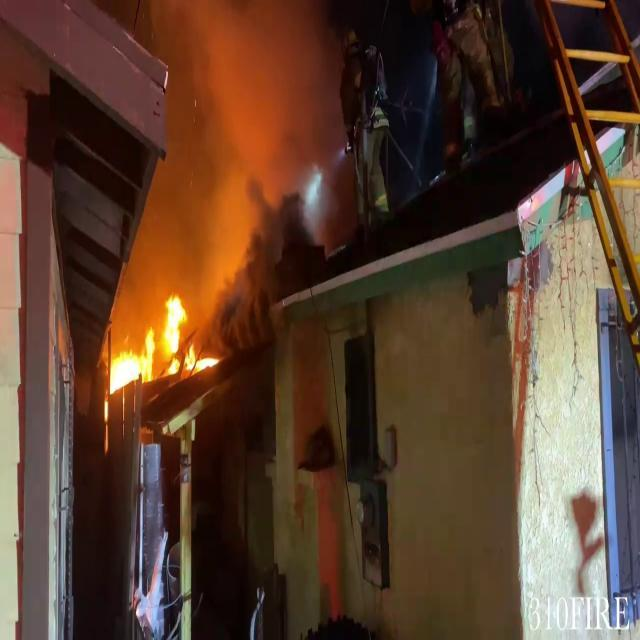Fire: (106, 288, 212, 398)
Smoke: (110, 0, 351, 309)
